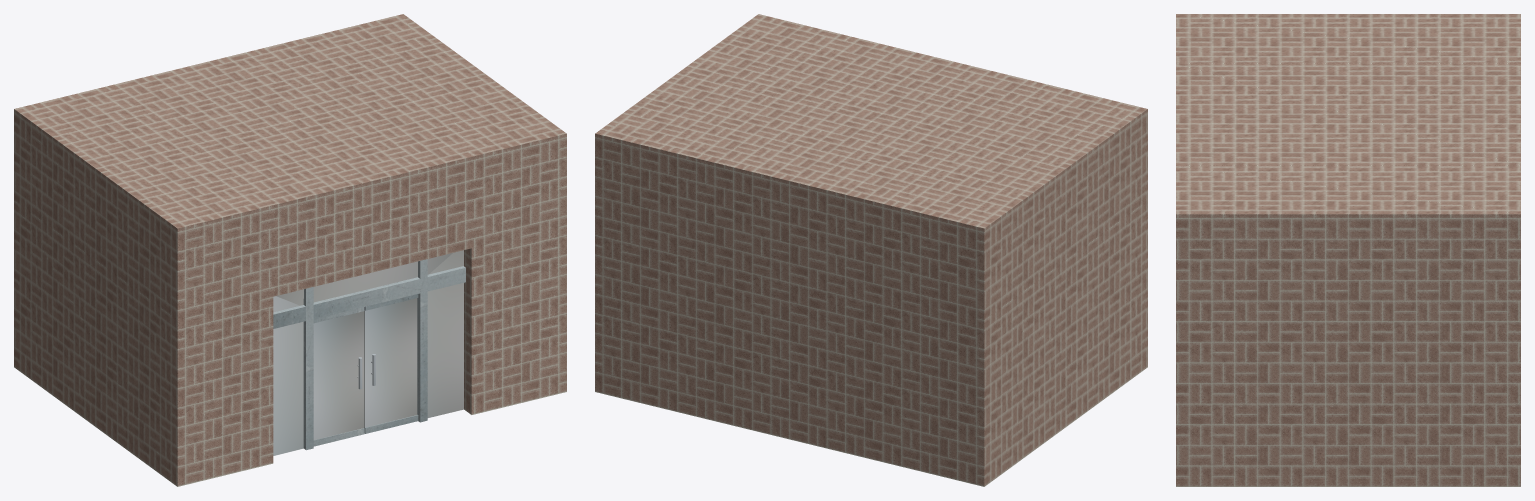
Rendered from EnterDoor_005.fbx.
The picture shows the model from 3 angles, left to right: view 1: azimuth 30°, elevation 25°; view 2: azimuth 150°, elevation 25°; view 3: azimuth 270°, elevation 25°; orthographic projection. The views are drawn at different scales.
Visible parts, largest first — view 1: EnterDoor_005; view 2: EnterDoor_005; view 3: EnterDoor_005.
Part boxes in pixels (x1,y1,x2,y2): EnterDoor_005: [14, 14, 566, 486]; EnterDoor_005: [595, 14, 1147, 486]; EnterDoor_005: [1176, 14, 1520, 486].
Bounding box in the file's own units: 521 × 331 × 379.
2 materials, 2 textured.
